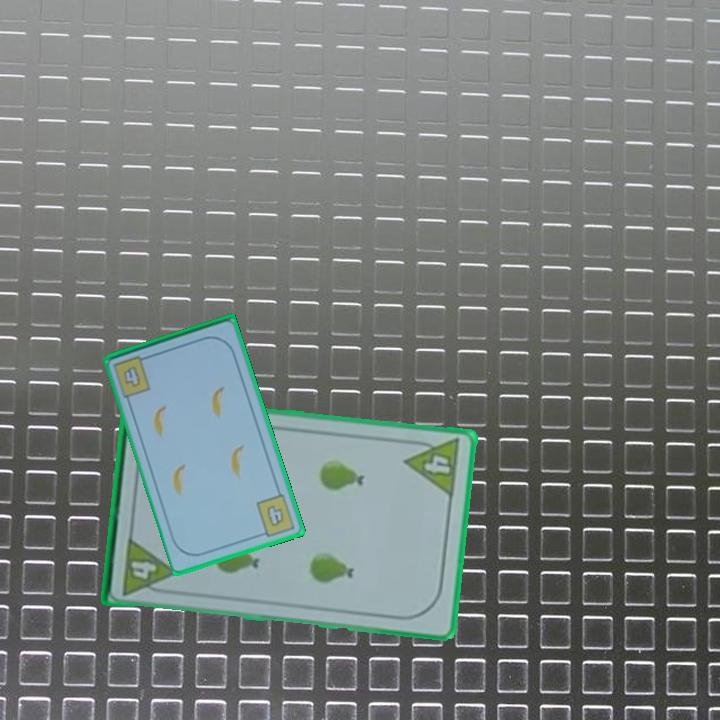4b: (253, 490, 298, 540), (120, 362, 144, 391)
4p: (401, 435, 463, 500), (119, 533, 178, 598)
